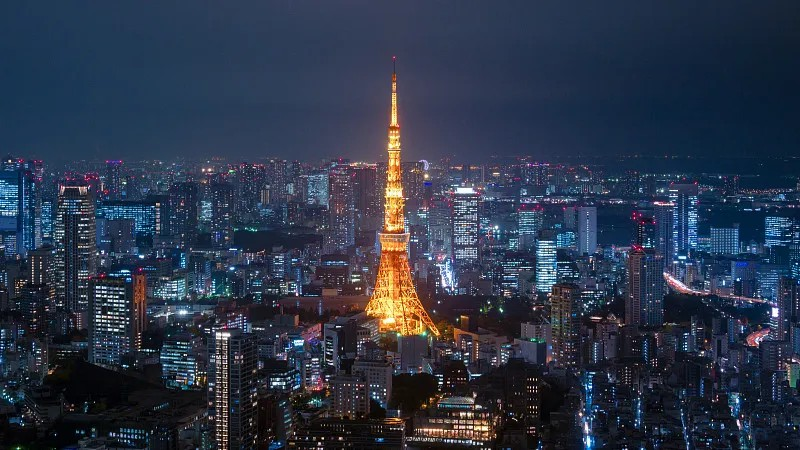Tokyo: (365, 56, 439, 337)
